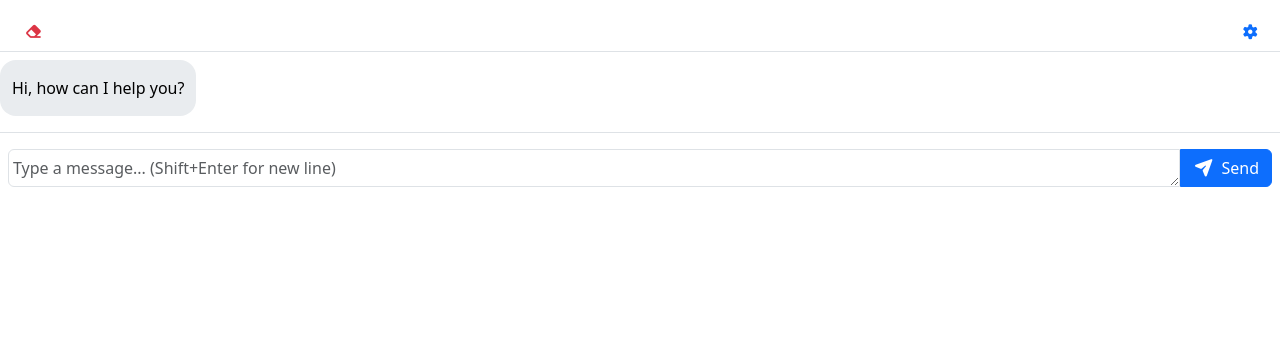
Chat tool call visibility › hides tool calls when showToolCalls is false and shows them again when re-enabled
The image size is (1280, 339).
Later steps or results of the test are not shown.
Expected: the button "Send" is shown, [1180,149,1272,187]
Type "hello" into the text box with placeholder "Type a message... (Shift+Enter for new line)" at (594, 168), box [8,149,1180,187]
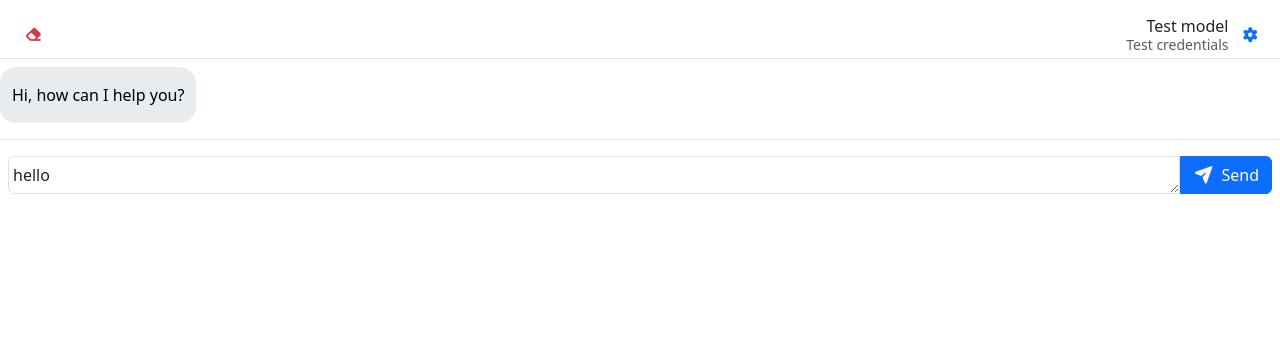
Click the button "Send" at (1226, 174), box [1180,156,1272,194]
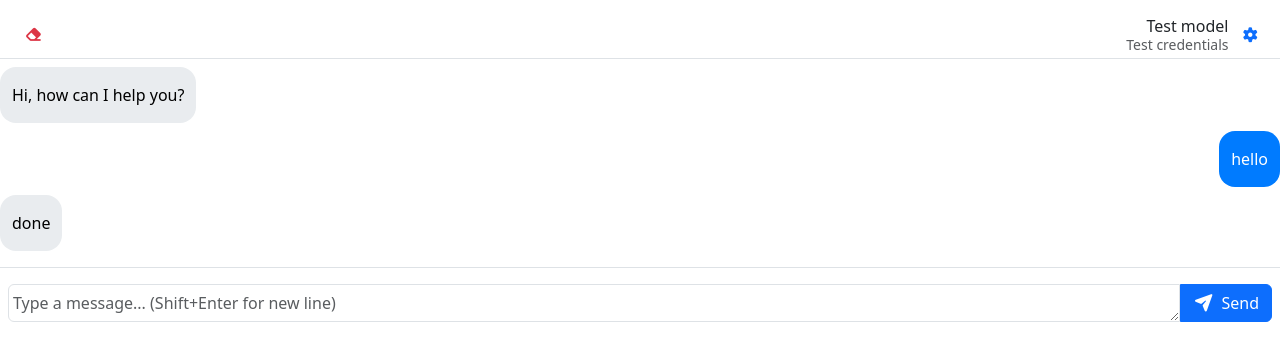
Expected: the text "done" is shown, [12,210,50,234]
